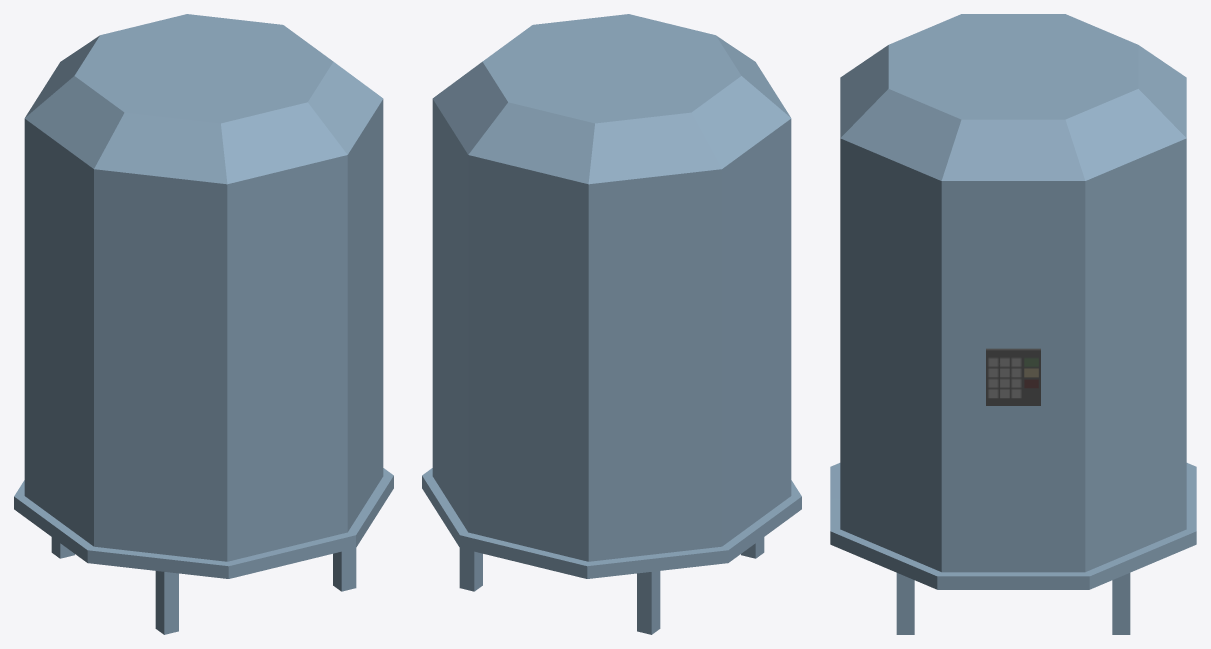
File: Big_flask_1.fbx
The picture shows the model from 3 angles, left to right: view 1: azimuth 30°, elevation 25°; view 2: azimuth 150°, elevation 25°; view 3: azimuth 270°, elevation 25°; orthographic projection. The views are drawn at different scales.
Parts seen in each view (by area): view 1: Cube; view 2: Cube; view 3: Cube.
Boxes of the visible parts, box(x1,y1,x2,y2) form: Cube: box(14, 14, 393, 634); Cube: box(422, 14, 801, 634); Cube: box(830, 14, 1196, 634).
Bounding box in the file's own units: 123 × 192 × 123.
